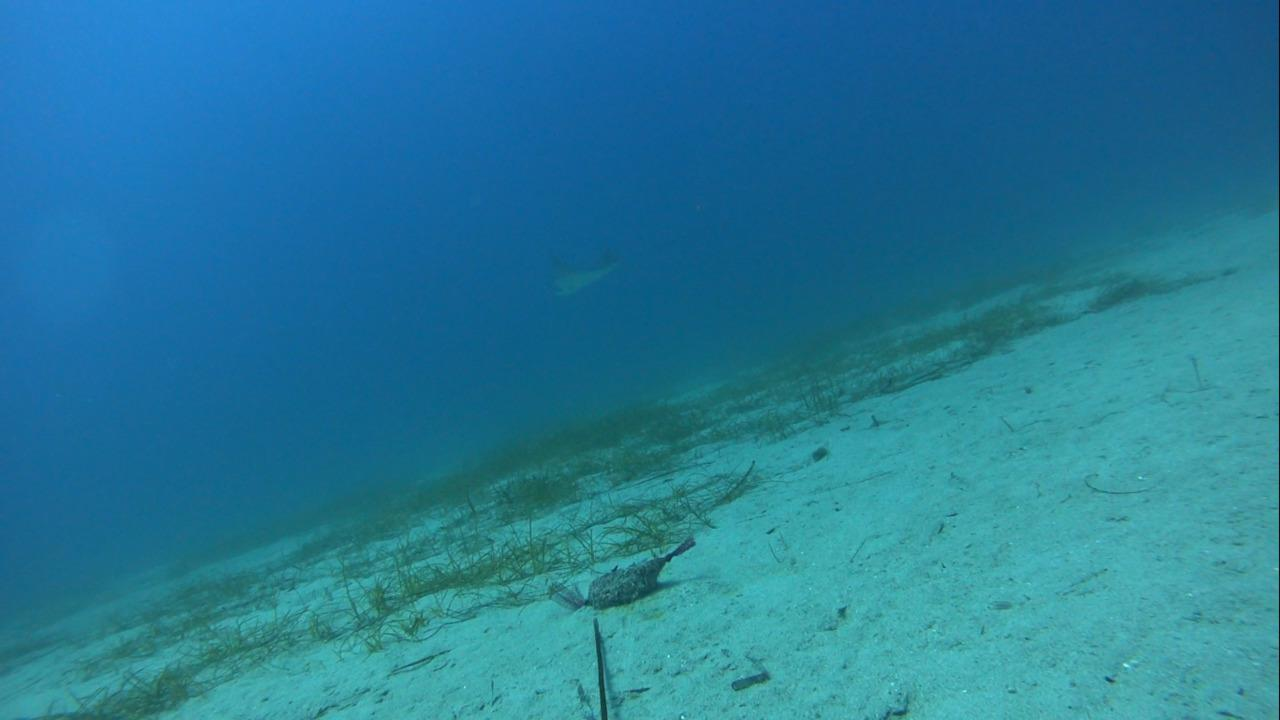myliobatis: (545, 226, 736, 300)
